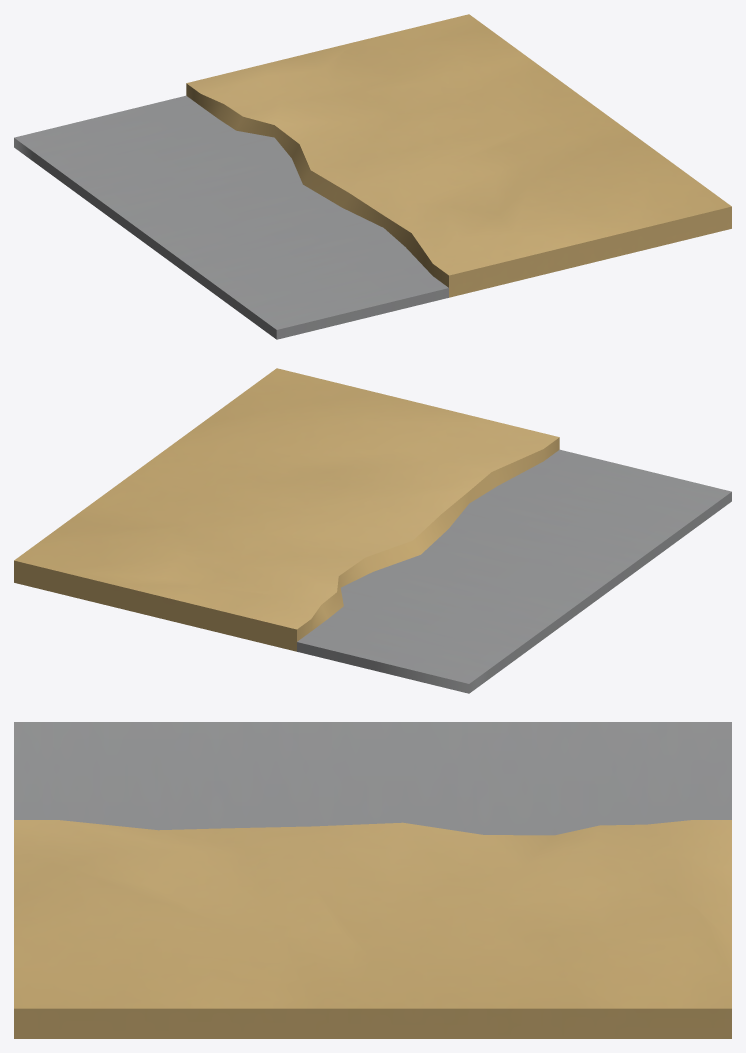
Rendered from ground_road_1_R.glb.
The picture shows the model from 3 angles, top to bottom: view 1: azimuth 30°, elevation 25°; view 2: azimuth 150°, elevation 25°; view 3: azimuth 270°, elevation 25°; orthographic projection. The views are drawn at different scales.
Parts seen in each view (by area): view 1: ground_road_1_R; view 2: ground_road_1_R; view 3: ground_road_1_R.
Part boxes in pixels (x1,y1,x2,y2): ground_road_1_R: (14,14,731,339); ground_road_1_R: (14,368,731,693); ground_road_1_R: (14,722,731,1038).
Bounding box in the file's own units: 2 × 0.1193 × 2.
Materials: 1 (1 with a texture image).
